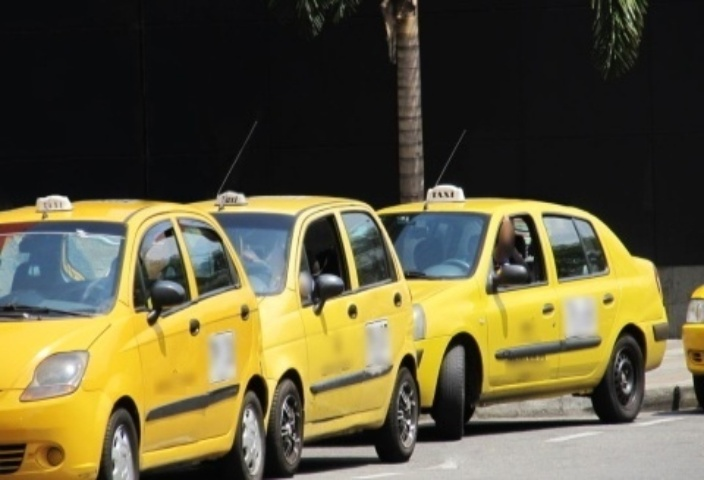taxi: (6, 178, 277, 480), (376, 184, 673, 440), (183, 182, 420, 467)
